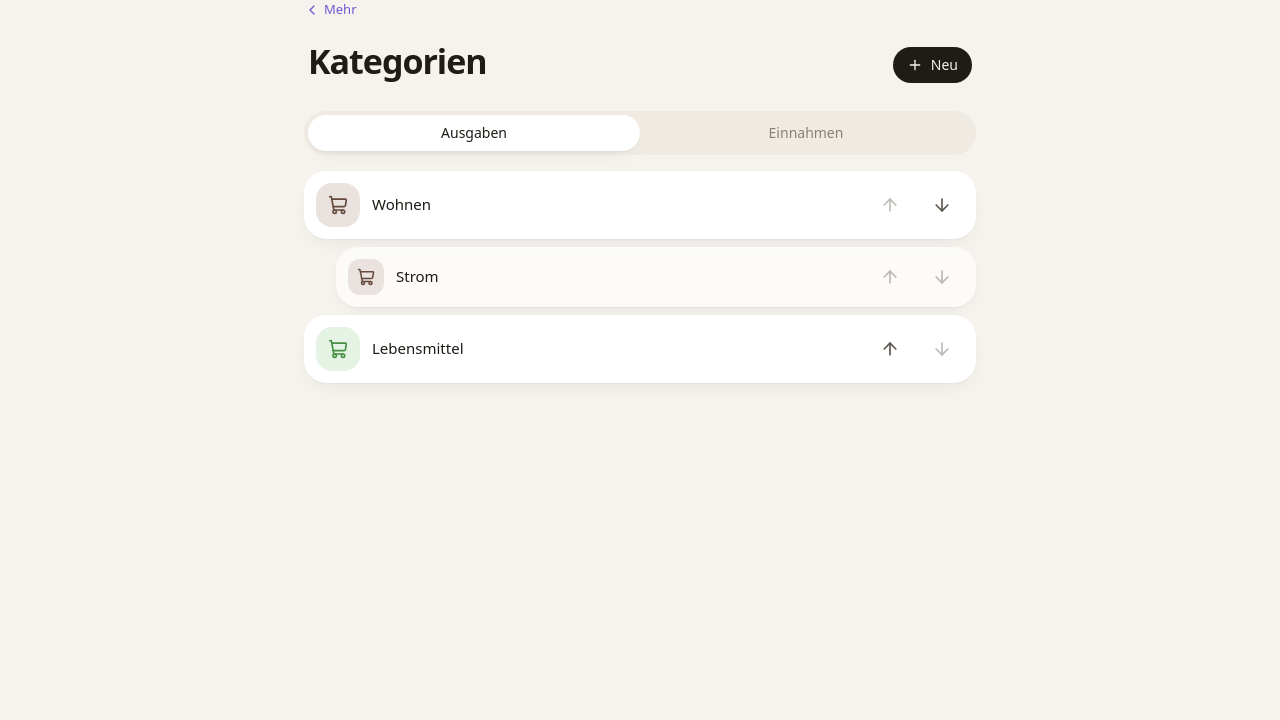
Test: moving a category with a budget under a main category without one says the budget moves along
Later steps or results of the test are not shown.
Click the button "Lebensmittel" at (338, 348), box [312, 322, 860, 374]
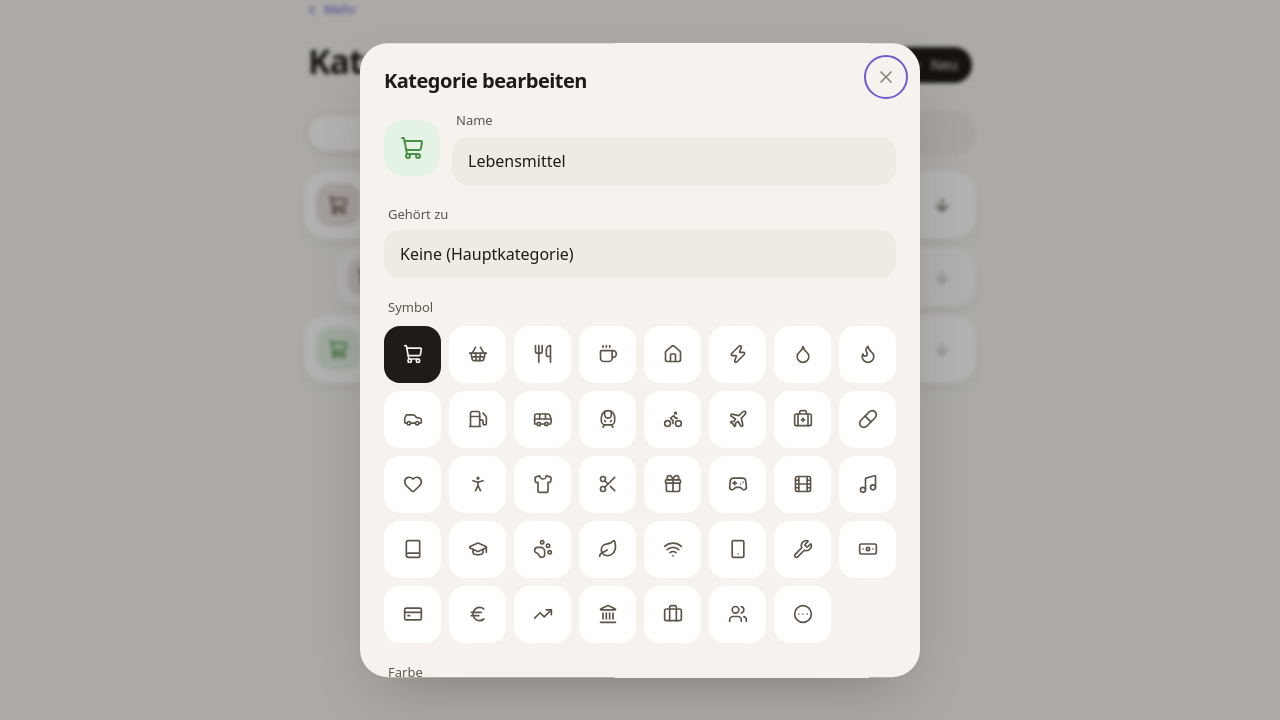
Select "Wohnen" in the dropdown labelled "Gehört zu" at (640, 254), box [384, 230, 896, 278]
(page scrolled)
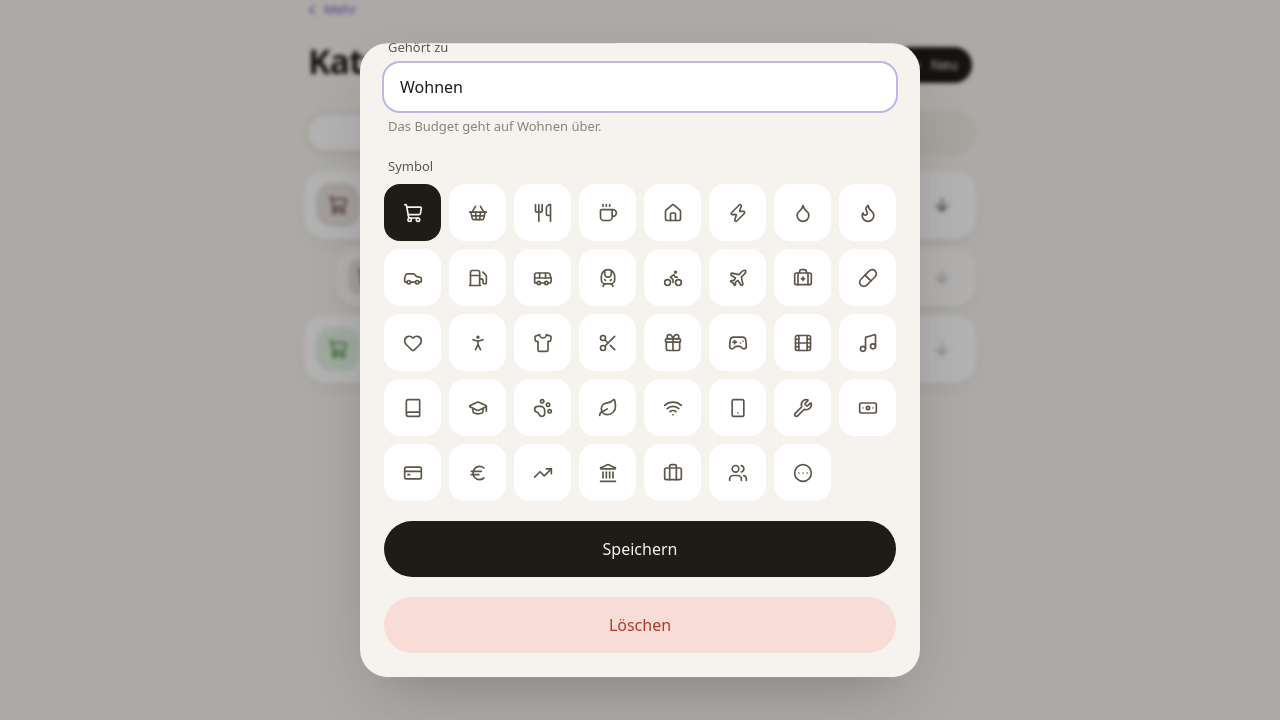
Expected: the text "Das Budget geht auf Wohnen über." is shown, [388, 117, 602, 135]
